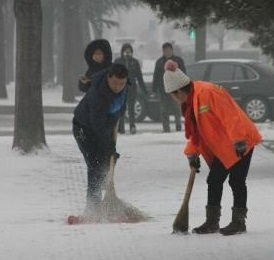person: (160, 58, 267, 238), (70, 62, 137, 226), (151, 42, 190, 134), (112, 43, 149, 136), (77, 37, 116, 96)
